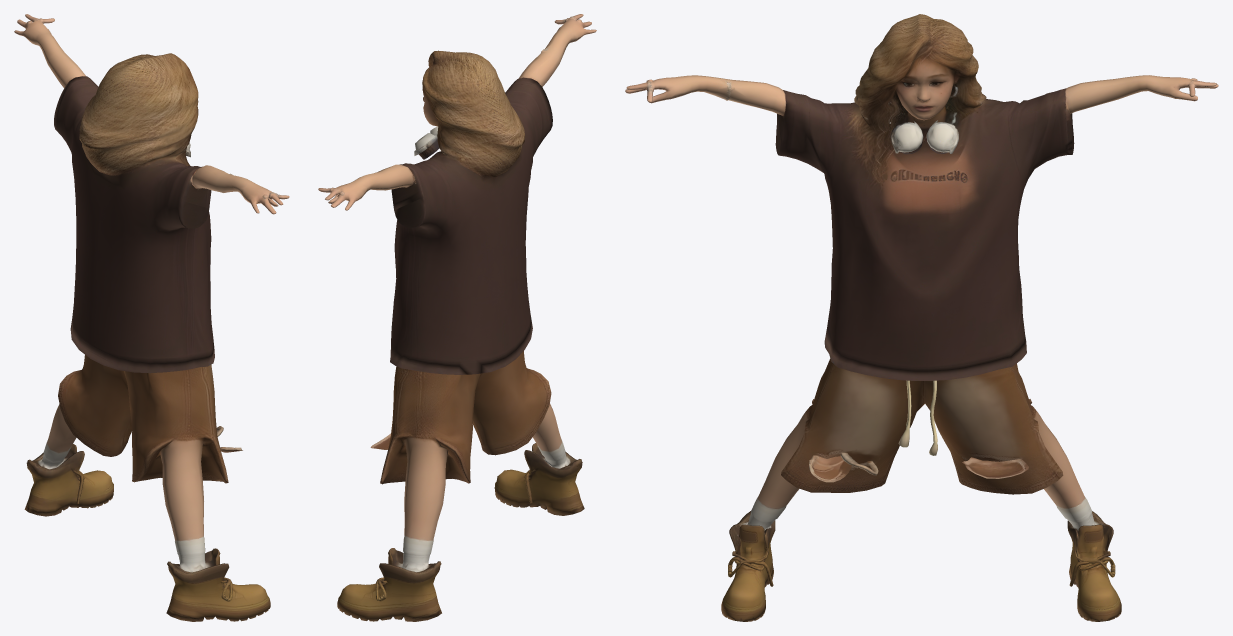
File: youngwoman3dmodel.glb
3 views of the same model, side by side, from view 1: azimuth 30°, elevation 25°; view 2: azimuth 150°, elevation 25°; view 3: azimuth 270°, elevation 25° (orthographic). The views are drawn at different scales.
Parts seen in each view (by area): view 1: tripo_node_e168535f-3c2c-4244-9634-e080de540977; view 2: tripo_node_e168535f-3c2c-4244-9634-e080de540977; view 3: tripo_node_e168535f-3c2c-4244-9634-e080de540977.
Boxes of the visible parts, bbox=[...] form: tripo_node_e168535f-3c2c-4244-9634-e080de540977: bbox=[14, 14, 289, 621]; tripo_node_e168535f-3c2c-4244-9634-e080de540977: bbox=[318, 14, 596, 621]; tripo_node_e168535f-3c2c-4244-9634-e080de540977: bbox=[625, 14, 1218, 621].
Size of the model in its own units: 0.2427 by 0.9995 by 0.9263.
Materials: 1 (1 with a texture image).
